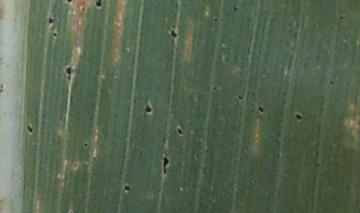tarspot: (160, 154, 171, 177), (63, 64, 74, 83), (143, 101, 153, 116), (122, 183, 132, 194), (26, 123, 35, 135), (169, 29, 178, 41), (257, 104, 266, 115), (294, 111, 303, 121), (174, 125, 182, 136), (92, 1, 104, 8), (47, 15, 55, 25), (212, 85, 219, 92), (52, 31, 58, 39), (83, 141, 89, 149), (1, 82, 4, 96), (232, 6, 239, 12), (237, 94, 244, 100), (329, 79, 335, 86), (213, 17, 219, 23), (315, 161, 320, 168), (253, 179, 259, 184), (339, 15, 344, 20), (65, 1, 73, 3)
